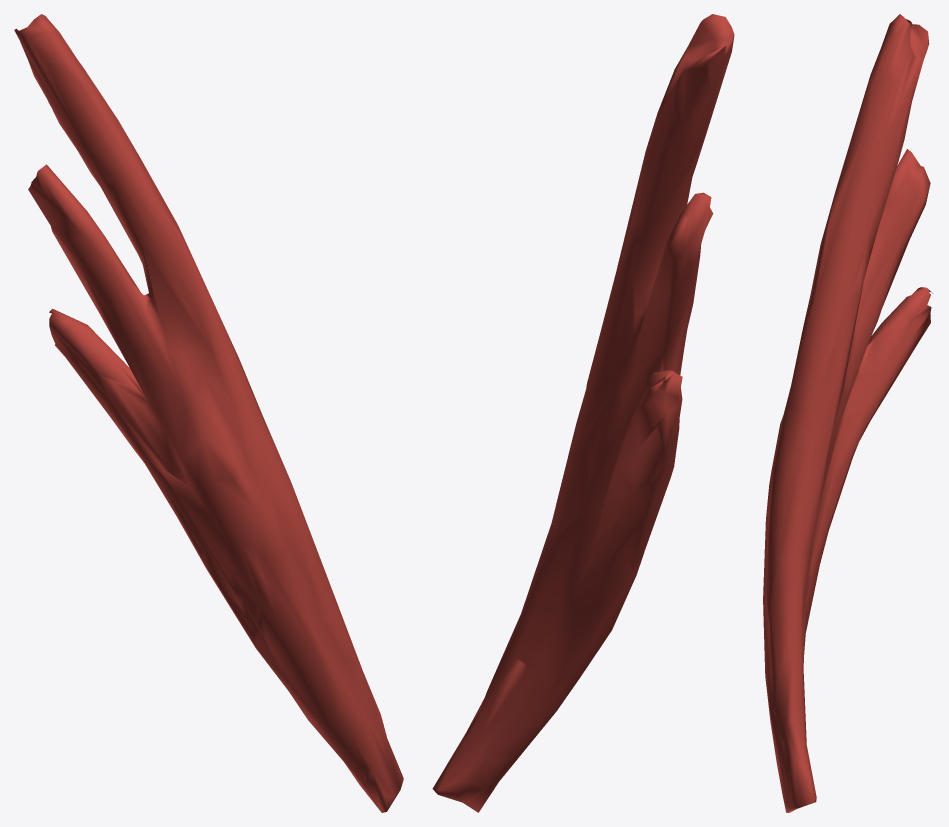
File: musculos-scalenus-anterior-muscle-l.glb
3 renders of one model, left to right at view 1: azimuth 30°, elevation 25°; view 2: azimuth 150°, elevation 25°; view 3: azimuth 270°, elevation 25°, orthographic. The views are drawn at different scales.
Parts seen in each view (by area): view 1: Scalenus anterior muscle.l; view 2: Scalenus anterior muscle.l; view 3: Scalenus anterior muscle.l.
Boxes of the visible parts, <box> form: Scalenus anterior muscle.l: <box>14,14,403,812</box>; Scalenus anterior muscle.l: <box>432,14,734,812</box>; Scalenus anterior muscle.l: <box>763,14,933,812</box>.
Size of the model in its own units: 0.0343 by 0.0828 by 0.0188.
